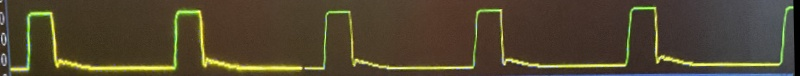normal_pressure: (10, 2, 797, 76)
